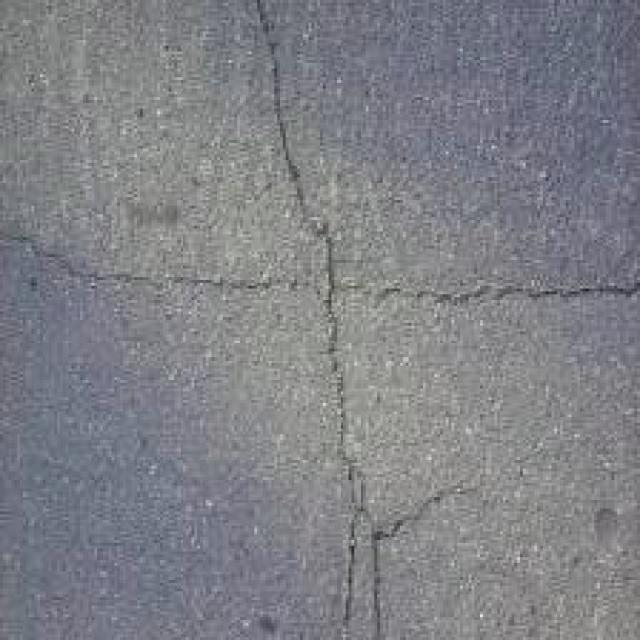SurfaceCrack: (22, 212, 640, 342)
